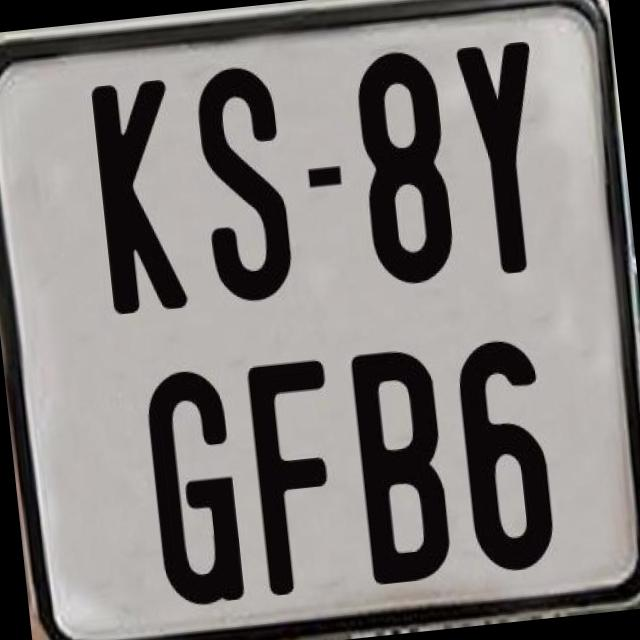6: (450, 334, 559, 574)
8: (351, 45, 461, 290)
B: (348, 342, 455, 580)
F: (242, 355, 350, 593)
G: (142, 367, 247, 613)
K: (87, 76, 191, 322)
S: (192, 59, 296, 308)
Y: (452, 40, 556, 282)
